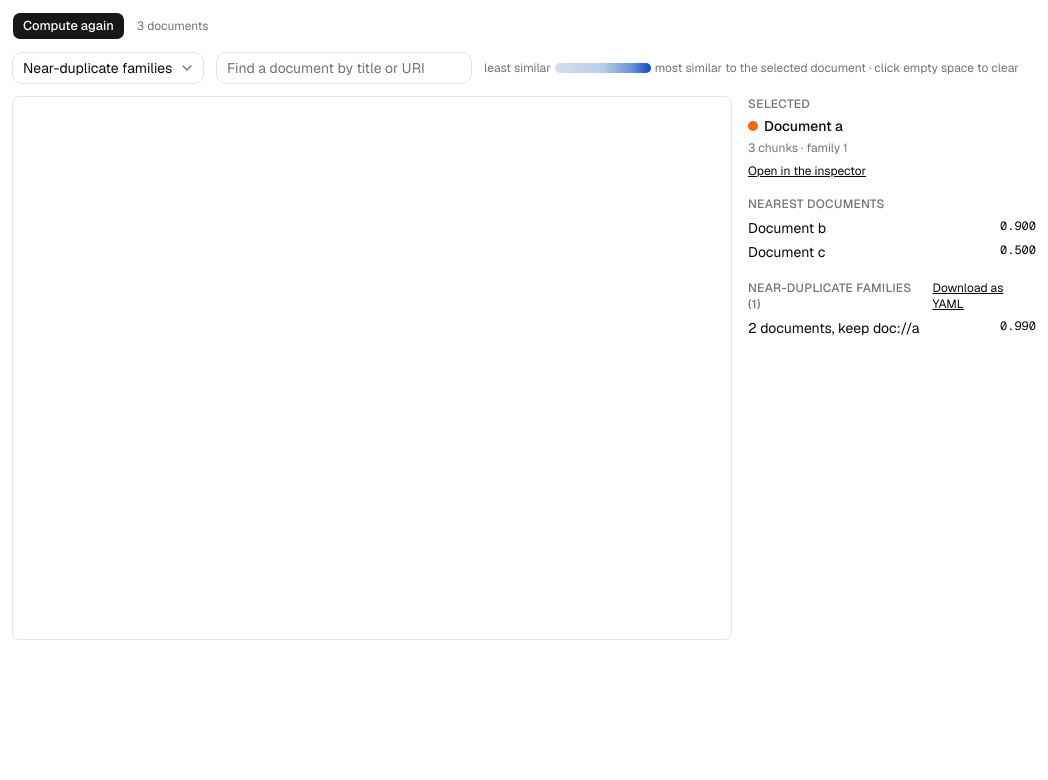
Scenario: CorpusMap › marks a nearest document on the map while its row is hovered
This screenshot has width=1048, height=780.
Hover over the button "Document b 0.900".
mouse_move(787, 228)  # box [748, 216, 1036, 240]
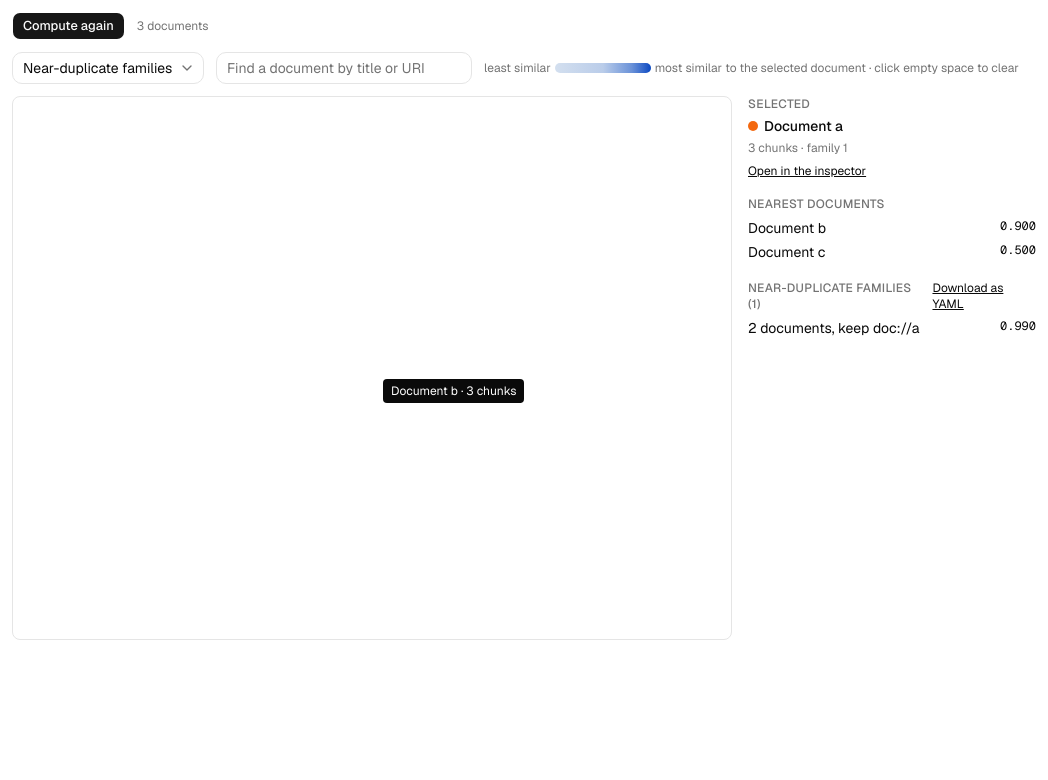
Check: the text "Document b · 3 chunks" is shown, box [383, 379, 524, 403]
Move the pointer off the button "Document b 0.900", box [748, 216, 1036, 240]
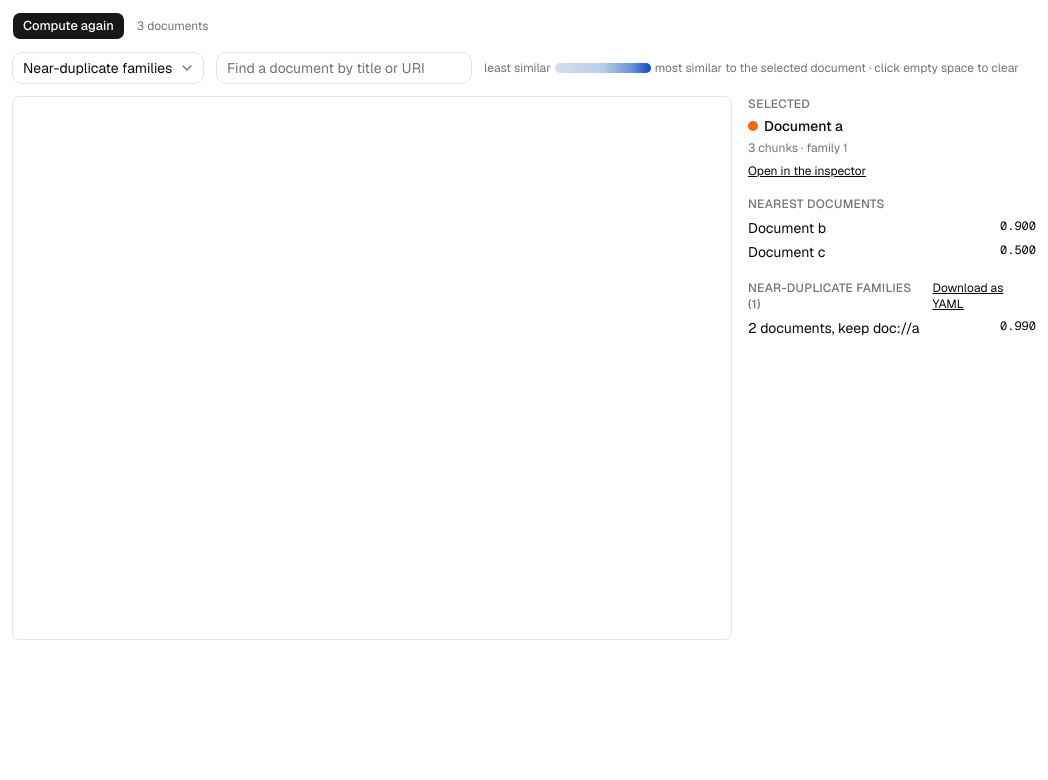
Check: the text "Document b · 3 chunks" is gone
